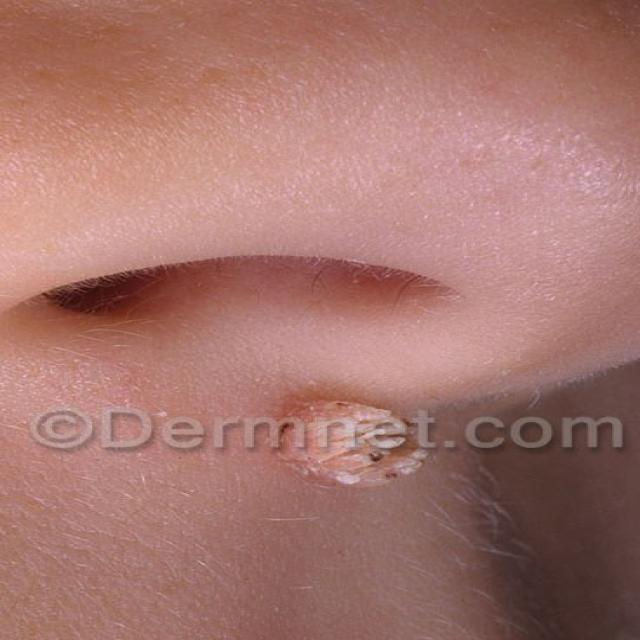Warts: (296, 388, 445, 515)
